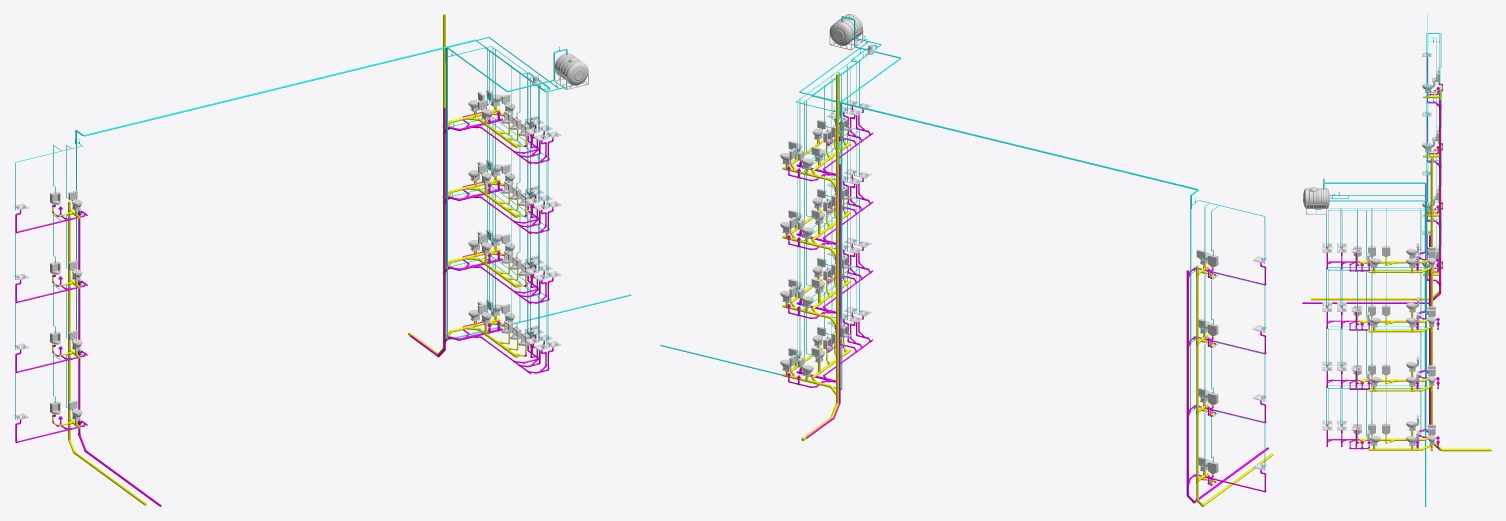
Rendered from THPTTT_Plumbing.fbx.
3 renders of one model, left to right at view 1: azimuth 30°, elevation 25°; view 2: azimuth 150°, elevation 25°; view 3: azimuth 270°, elevation 25°, orthographic. The views are drawn at different scales.
Parts seen in each view (by area): view 1: Pipe Types WS [1170084], Pipe Types R [1171745], Pipe Types WW [1171676], Bồn nước Bồn nước 3000l [1119261]; view 2: Pipe Types WS [1170084], Pipe Types WW [1171676], Pipe Types R [1171745], Bồn nước Bồn nước 3000l [1119261]; view 3: Pipe Types WS [1170084], Pipe Types WW [1171676], Pipe Types R [1171745], Bồn nước Bồn nước 3000l [1119261].
Boxes of the visible parts, left/top/right/bottom form: Pipe Types WS [1170084]: left=15, top=37, right=631, bottom=419; Pipe Types R [1171745]: left=15, top=107, right=553, bottom=506; Pipe Types WW [1171676]: left=52, top=14, right=535, bottom=505; Bồn nước Bồn nước 3000l [1119261]: left=554, top=53, right=588, bottom=89; Pipe Types WS [1170084]: left=660, top=16, right=1265, bottom=469; Pipe Types WW [1171676]: left=782, top=73, right=1273, bottom=505; Pipe Types R [1171745]: left=788, top=106, right=1268, bottom=502; Bồn nước Bồn nước 3000l [1119261]: left=829, top=14, right=863, bottom=50; Pipe Types WS [1170084]: left=1314, top=14, right=1441, bottom=506; Pipe Types WW [1171676]: left=1311, top=82, right=1491, bottom=451; Pipe Types R [1171745]: left=1302, top=57, right=1440, bottom=448; Bồn nước Bồn nước 3000l [1119261]: left=1303, top=187, right=1329, bottom=214.
Bounding box in the file's own units: 3315 × 1804 × 1043.
